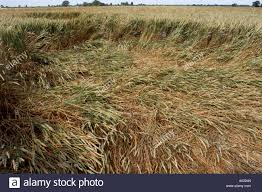damaged_wheat: (22, 7, 148, 110), (162, 53, 246, 146), (40, 119, 151, 169)
